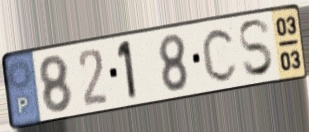1: (115, 38, 140, 103)
2: (77, 46, 110, 109)
8: (37, 52, 76, 115), (156, 32, 190, 95)
C: (200, 25, 240, 85)
S: (237, 16, 277, 79)
